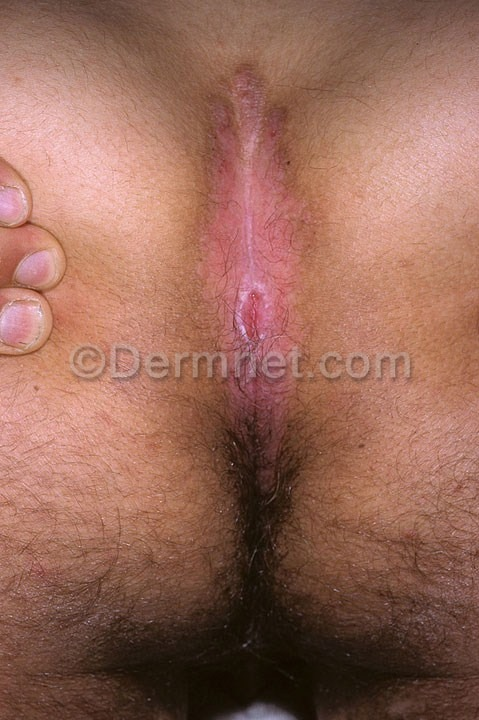Psoriasis: (160, 47, 376, 398)
